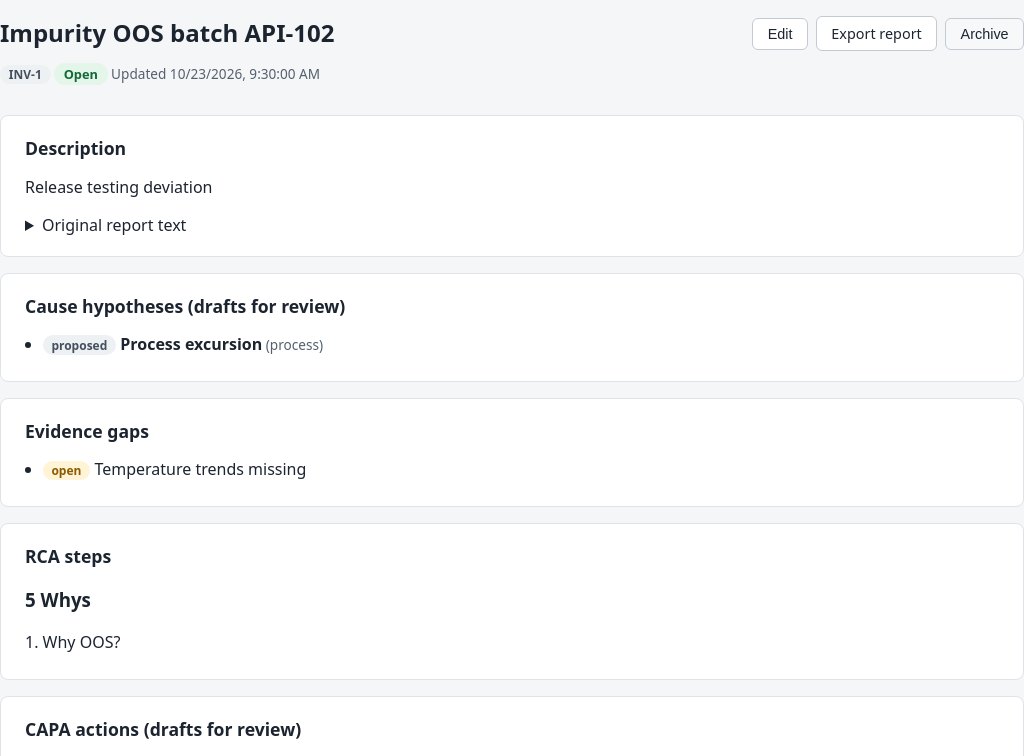
Test case: archives an open investigation through the API and shows the result
This screenshot has width=1024, height=756.
Check: the heading "Impurity OOS batch API-102" is shown, box [0,16,334,49]
Click the button "Archive" at [985, 34], box [945,18,1023,50]
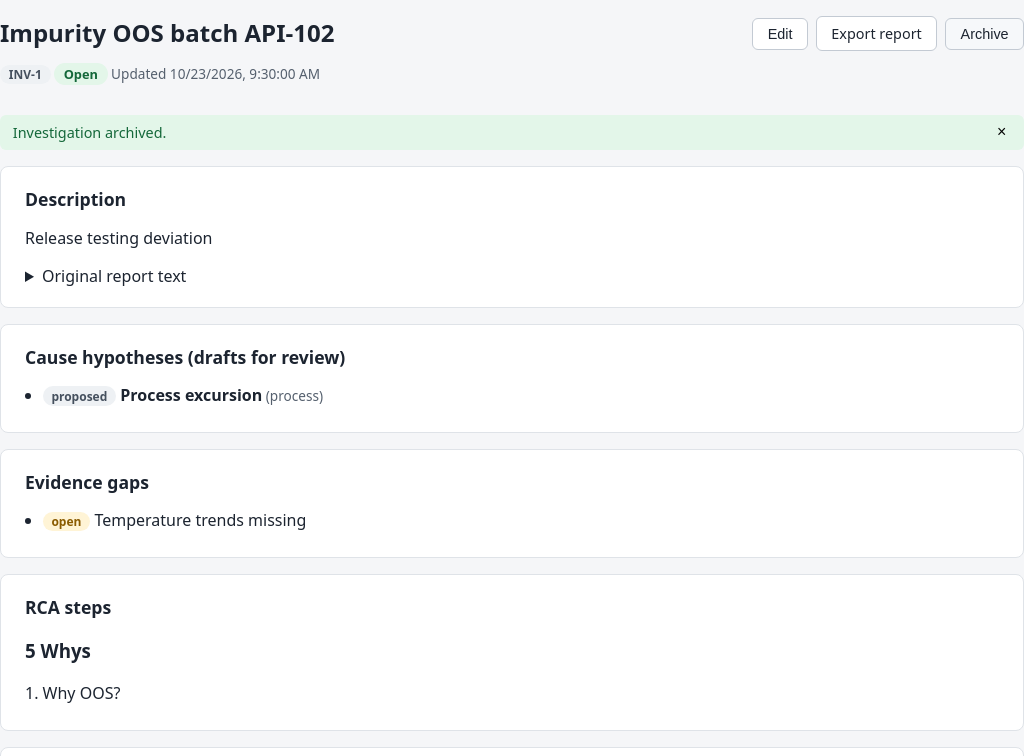
Check: the text "Investigation archived." is shown, box [13,123,166,142]
